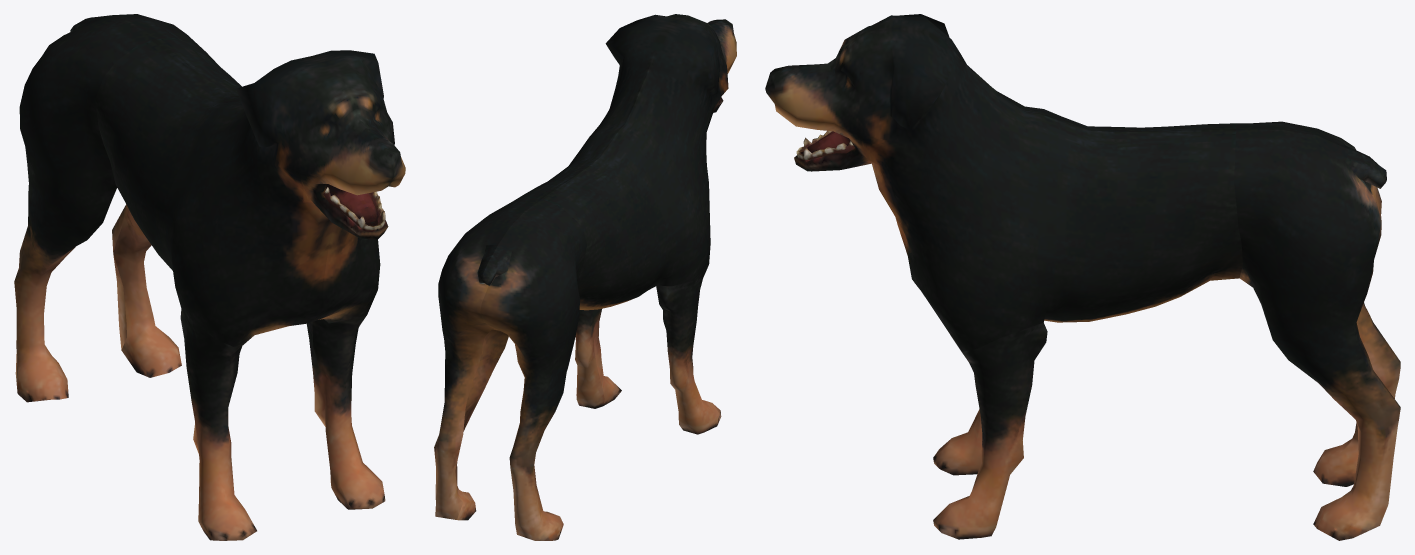
Rendered from GuardDog.dae.
3 renders of one model, left to right at view 1: azimuth 30°, elevation 25°; view 2: azimuth 150°, elevation 25°; view 3: azimuth 270°, elevation 25°, orthographic. The views are drawn at different scales.
Parts seen in each view (by area): view 1: TGuardDog_Diffuse.png; view 2: TGuardDog_Diffuse.png; view 3: TGuardDog_Diffuse.png.
Boxes of the visible parts, x1,y1,x2,y2 form: TGuardDog_Diffuse.png: [14, 14, 405, 540]; TGuardDog_Diffuse.png: [434, 14, 736, 540]; TGuardDog_Diffuse.png: [765, 14, 1400, 540].
Bounding box in the file's own units: 40.01 × 103 × 124.
Materials: 1 (1 with a texture image).
